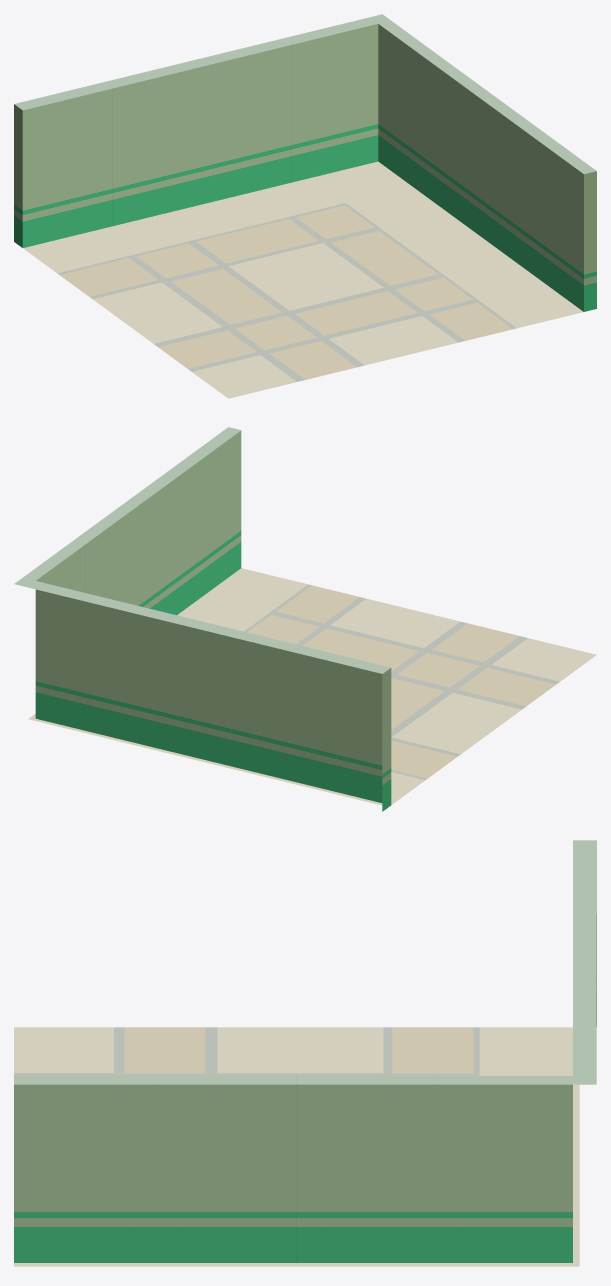
Rendered from cangku_03.FBX.
3 renders of one model, top to bottom at view 1: azimuth 30°, elevation 25°; view 2: azimuth 150°, elevation 25°; view 3: azimuth 270°, elevation 25°, orthographic. The views are drawn at different scales.
Parts seen in each view (by area): view 1: cangku_03; view 2: cangku_03; view 3: cangku_03.
Part boxes in pixels (left/top/right/bottom): cangku_03: left=14, top=14, right=596, bottom=398; cangku_03: left=14, top=427, right=596, bottom=811; cangku_03: left=14, top=840, right=596, bottom=1266.
Size of the model in its own units: 37.29 by 13.32 by 37.6.
1 material, 1 textured.
